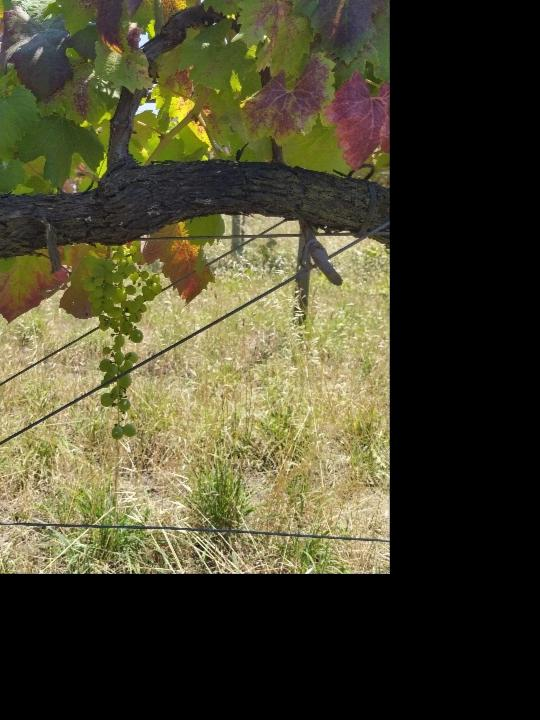grape: (82, 243, 167, 446)
